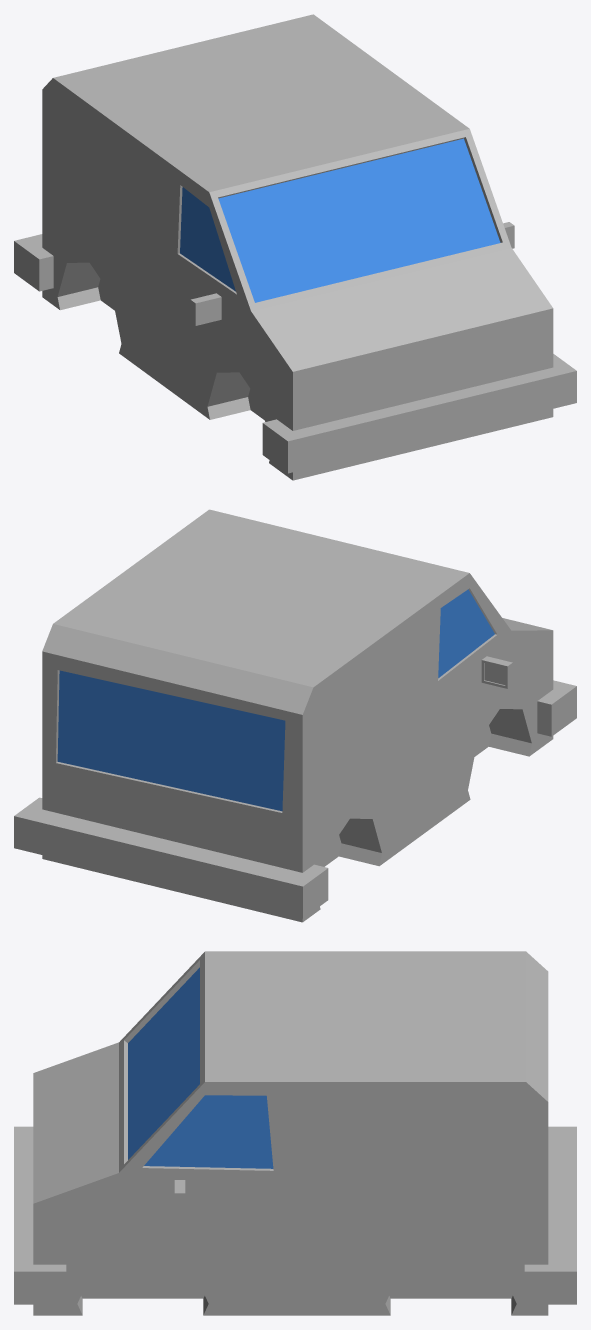
The model's file is Ambulans.fbx.
The picture shows the model from 3 angles, top to bottom: view 1: azimuth 30°, elevation 25°; view 2: azimuth 150°, elevation 25°; view 3: azimuth 270°, elevation 25°; orthographic projection. The views are drawn at different scales.
Visible parts, largest first — view 1: Cube; view 2: Cube; view 3: Cube.
Boxes of the visible parts, <box> form: Cube: <box>14,14,576,480</box>; Cube: <box>14,509,576,922</box>; Cube: <box>14,951,576,1315</box>.
Size of the model in its own units: 294 by 200 by 437.
